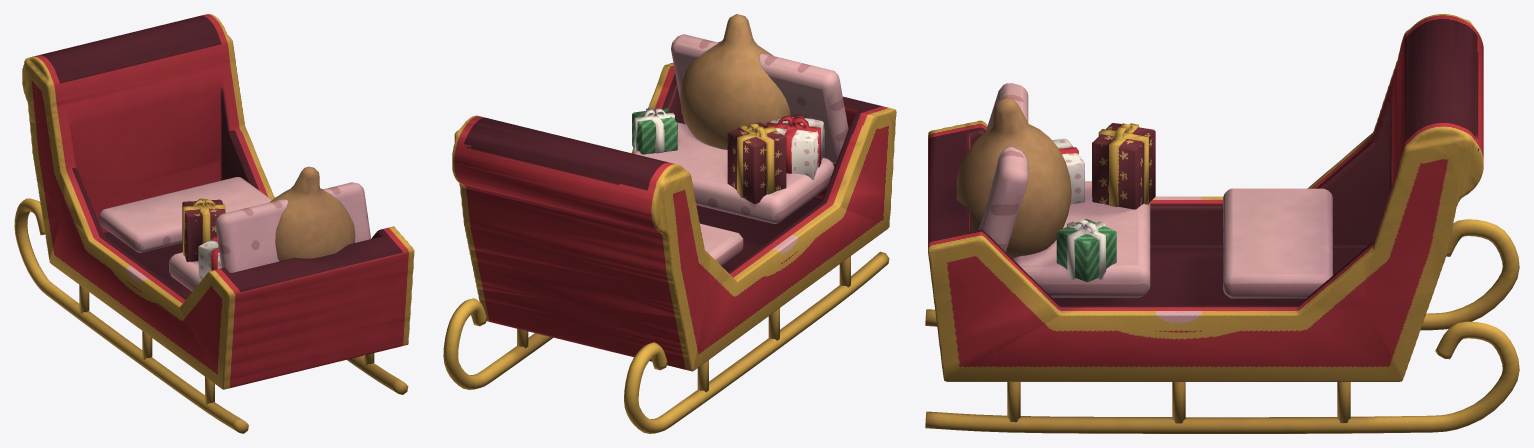
File: sleigh.glb
The picture shows the model from 3 angles, left to right: view 1: azimuth 30°, elevation 25°; view 2: azimuth 150°, elevation 25°; view 3: azimuth 270°, elevation 25°; orthographic projection. The views are drawn at different scales.
Visible parts, largest first — view 1: Body, Seat, Runners, Sack, GiftB, GiftA; view 2: Body, Seat, Runners, Sack, GiftB, GiftA, GiftC; view 3: Body, Seat, Runners, Sack, GiftB, GiftC, GiftA.
Part boxes in pixels (x1,y1,x2,y2): Body: (22, 14, 414, 389); Seat: (99, 177, 370, 291); Runners: (14, 198, 408, 433); Sack: (270, 166, 355, 261); GiftB: (182, 198, 225, 261); GiftA: (198, 236, 221, 280); Body: (452, 63, 896, 371); Seat: (633, 34, 848, 265); Runners: (443, 251, 889, 433); Sack: (680, 14, 790, 149); GiftB: (727, 122, 786, 204); GiftA: (766, 115, 824, 179); GiftC: (632, 108, 677, 154); Body: (928, 14, 1483, 381); Seat: (978, 83, 1332, 298); Runners: (925, 219, 1519, 433); Sack: (956, 97, 1071, 258); GiftB: (1092, 123, 1155, 209); GiftC: (1056, 218, 1116, 282); GiftA: (1052, 138, 1084, 204).
Size of the model in its own units: 1.28 by 1.56 by 2.7.
Materials: 1 (1 with a texture image).
